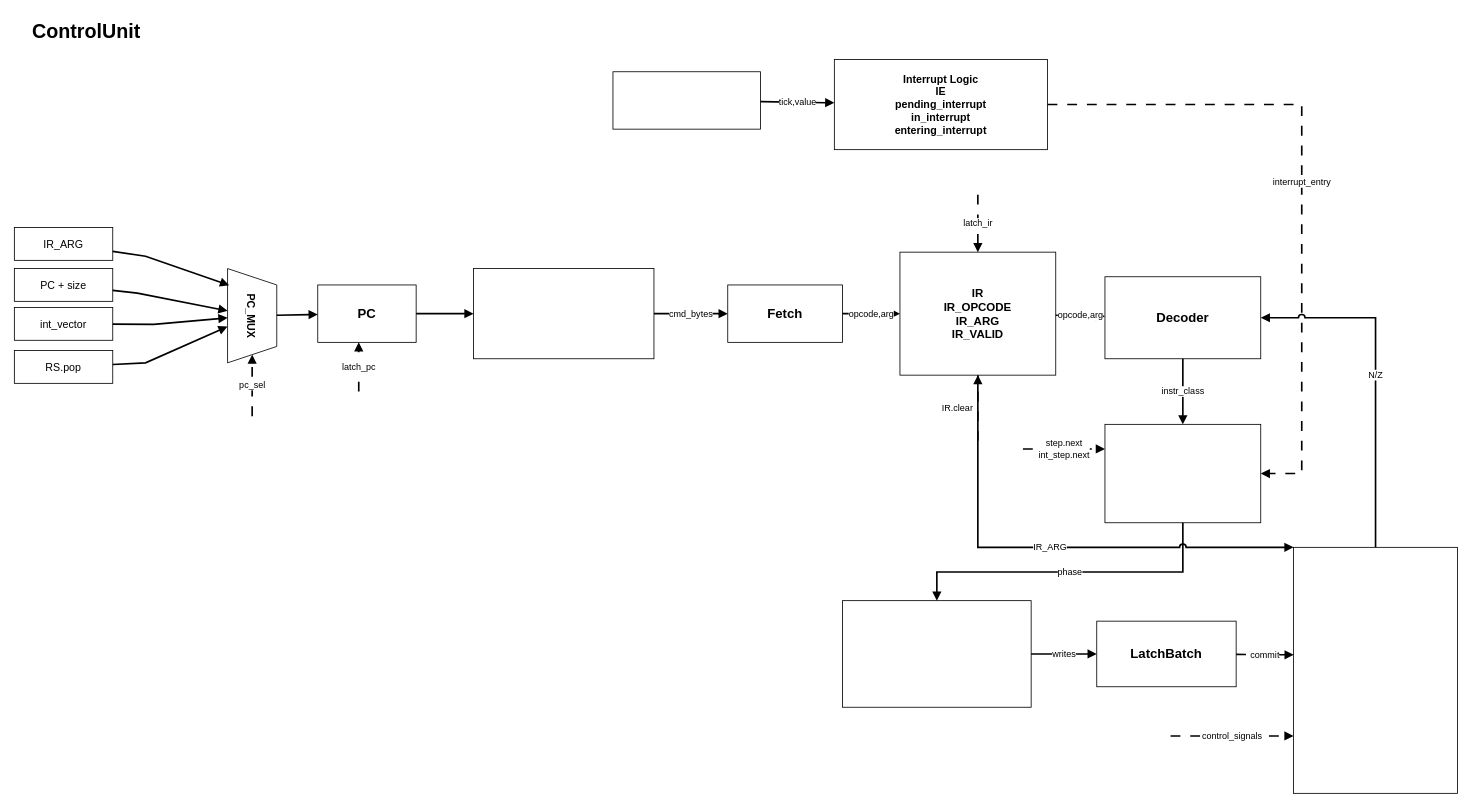
The diagram is 1472 pixels wide and 808 high, and some of its shapes have lost their labels. Each missing label, with the centre of its shape:
Command Memory: point 563,313
DataPath Interface: point 1375,670
Input Schedule: point 686,100
Sequencer step int_step: point 1182,473
Signal Logic: point 936,653
